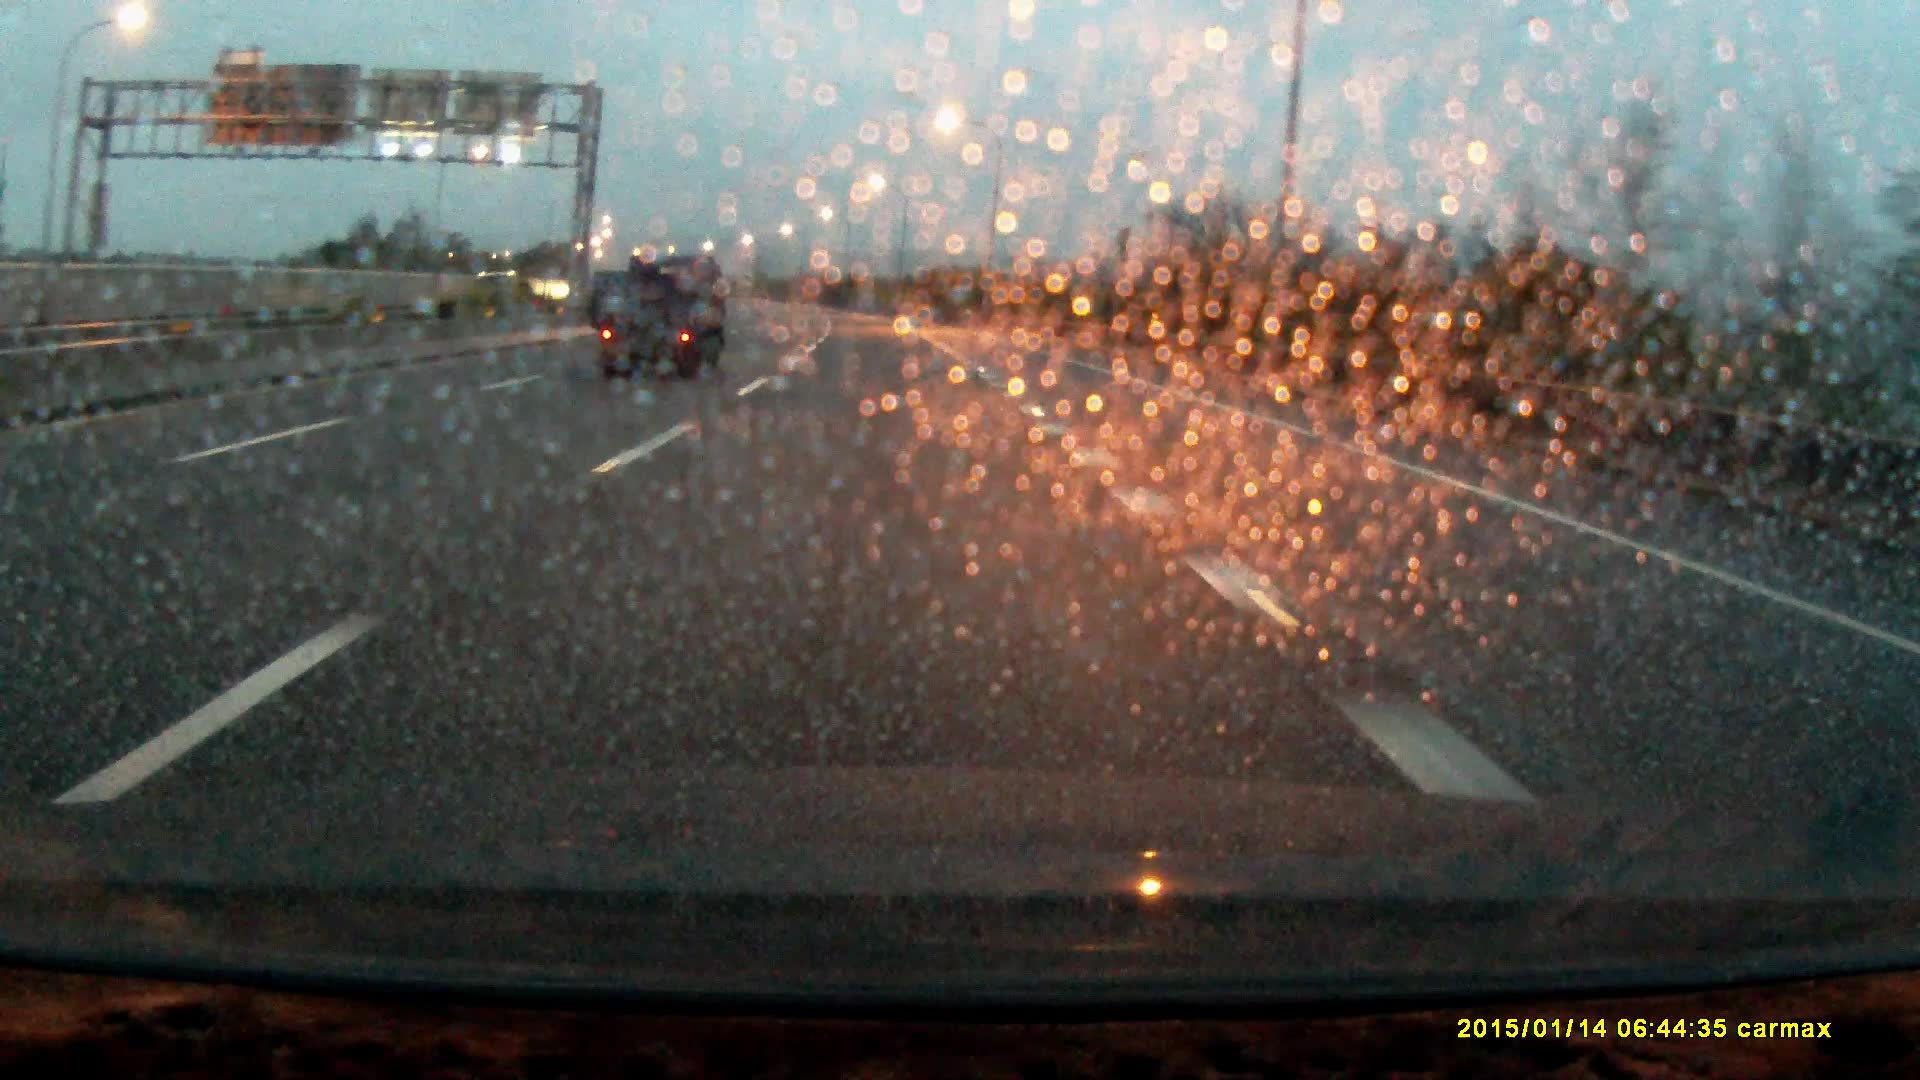vehicle: (595, 255, 732, 378), (476, 272, 563, 309)
